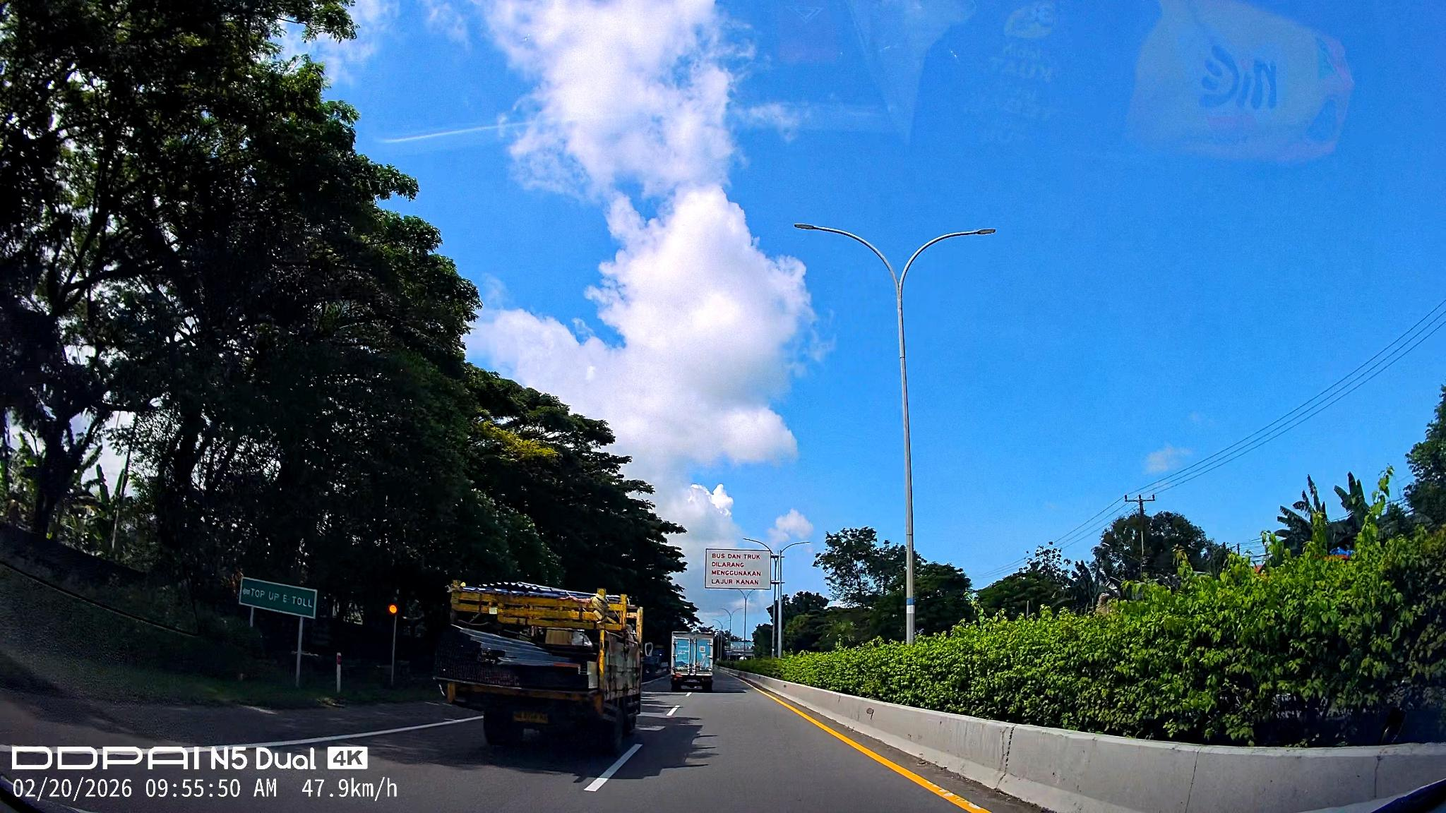rambu_teks: (705, 548, 772, 591)
